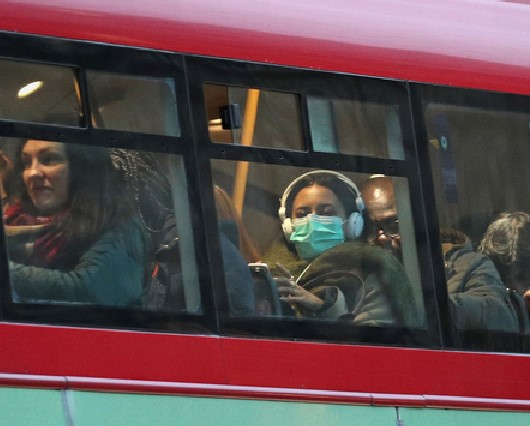face_no_mask: (21, 141, 91, 212)
face_with_mask: (278, 170, 367, 259)
